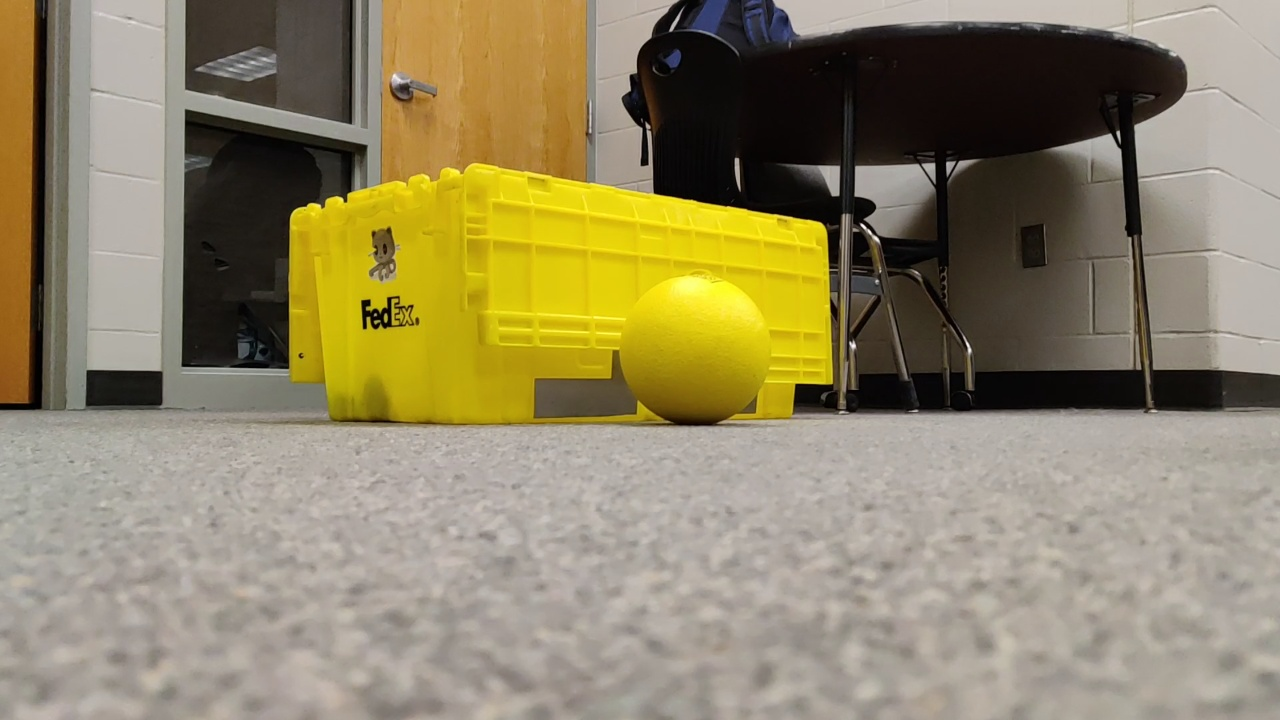Ball: (615, 269, 778, 426)
